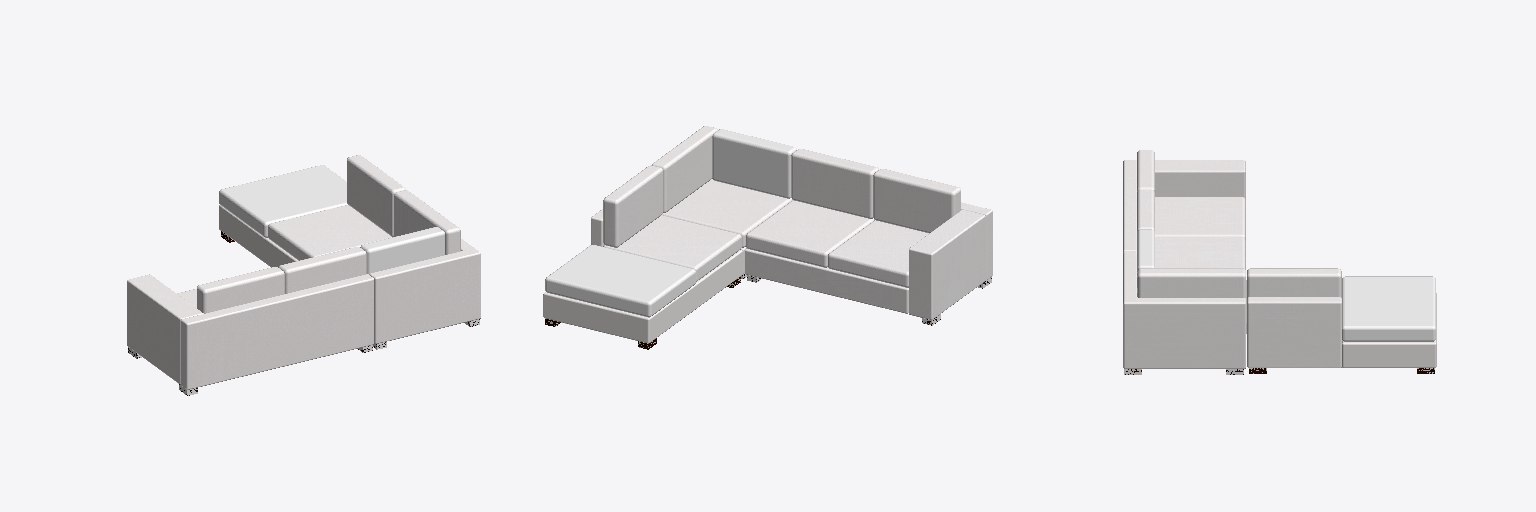
3 renders of one model, left to right at view 1: azimuth 30°, elevation 25°; view 2: azimuth 150°, elevation 25°; view 3: azimuth 270°, elevation 25°, orthographic.
Visible parts, largest first — view 1: mesh19_mesh19-geometry, mesh11_mesh11-geometry, mesh2_mesh2-geometry, mesh5_mesh5-geometry, mesh17_mesh17-geometry, mesh3_mesh3-geometry, mesh9_mesh9-geometry, mesh13_mesh13-geometry, mesh4_mesh4-geometry; view 2: mesh3_mesh3-geometry, mesh2_mesh2-geometry, mesh5_mesh5-geometry, mesh17_mesh17-geometry, mesh4_mesh4-geometry, mesh18_mesh18-geometry, mesh9_mesh9-geometry, mesh14_mesh14-geometry, mesh13_mesh13-geometry, mesh19_mesh19-geometry; view 3: mesh11_mesh11-geometry, mesh6_mesh6-geometry, mesh3_mesh3-geometry, mesh5_mesh5-geometry, mesh2_mesh2-geometry, mesh17_mesh17-geometry, mesh13_mesh13-geometry, mesh4_mesh4-geometry, mesh19_mesh19-geometry, mesh9_mesh9-geometry.
Part boxes in pixels (bbox=[...]): mesh19_mesh19-geometry: bbox=[181, 274, 373, 389]; mesh11_mesh11-geometry: bbox=[369, 239, 480, 343]; mesh2_mesh2-geometry: bbox=[197, 155, 405, 313]; mesh5_mesh5-geometry: bbox=[219, 165, 347, 237]; mesh17_mesh17-geometry: bbox=[127, 274, 203, 384]; mesh3_mesh3-geometry: bbox=[177, 205, 391, 307]; mesh9_mesh9-geometry: bbox=[360, 227, 444, 273]; mesh13_mesh13-geometry: bbox=[394, 190, 460, 254]; mesh4_mesh4-geometry: bbox=[219, 205, 297, 267]; mesh3_mesh3-geometry: bbox=[603, 200, 928, 287]; mesh2_mesh2-geometry: bbox=[603, 149, 960, 247]; mesh5_mesh5-geometry: bbox=[545, 245, 695, 317]; mesh17_mesh17-geometry: bbox=[909, 210, 985, 319]; mesh4_mesh4-geometry: bbox=[543, 250, 742, 343]; mesh18_mesh18-geometry: bbox=[745, 248, 908, 313]; mesh9_mesh9-geometry: bbox=[712, 129, 796, 198]; mesh14_mesh14-geometry: bbox=[662, 179, 792, 247]; mesh13_mesh13-geometry: bbox=[652, 126, 717, 212]; mesh19_mesh19-geometry: bbox=[961, 202, 992, 279]; mesh11_mesh11-geometry: bbox=[1123, 252, 1245, 368]; mesh6_mesh6-geometry: bbox=[1247, 297, 1341, 367]; mesh3_mesh3-geometry: bbox=[1137, 197, 1245, 288]; mesh5_mesh5-geometry: bbox=[1342, 276, 1435, 341]; mesh2_mesh2-geometry: bbox=[1137, 150, 1341, 297]; mesh17_mesh17-geometry: bbox=[1155, 160, 1245, 199]; mesh13_mesh13-geometry: bbox=[1138, 268, 1245, 297]; mesh4_mesh4-geometry: bbox=[1342, 293, 1436, 367]; mesh19_mesh19-geometry: bbox=[1123, 160, 1136, 252]; mesh9_mesh9-geometry: bbox=[1138, 229, 1154, 269].
Bounding box in the file's own units: 0.7174 × 0.2209 × 0.6607.
Materials: 4 (1 with a texture image).